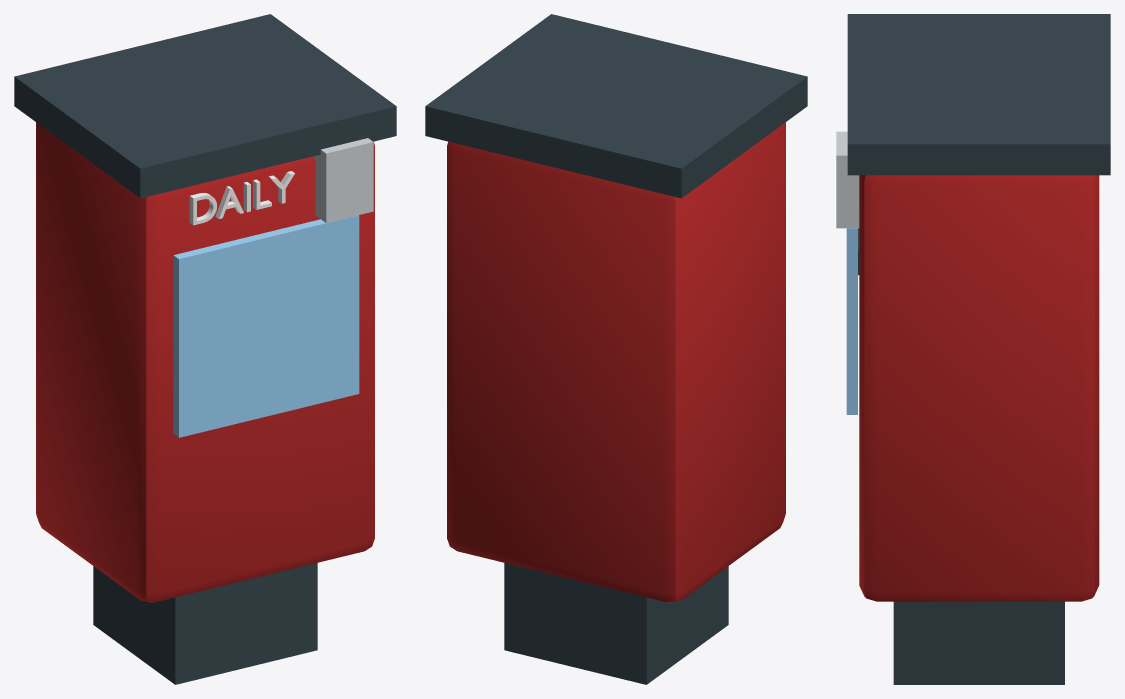
File: streets_newsbox.glb
3 views of the same model, side by side, from view 1: azimuth 30°, elevation 25°; view 2: azimuth 150°, elevation 25°; view 3: azimuth 270°, elevation 25° (orthographic). The views are drawn at different scales.
Parts seen in each view (by area): view 1: NewsBox_body; view 2: NewsBox_body; view 3: NewsBox_body.
Boxes of the visible parts, x1,y1,x2,y2 form: NewsBox_body: [14, 14, 396, 684]; NewsBox_body: [425, 14, 807, 684]; NewsBox_body: [836, 14, 1110, 684].
Size of the model in its own units: 0.54 by 1.1 by 0.48.
